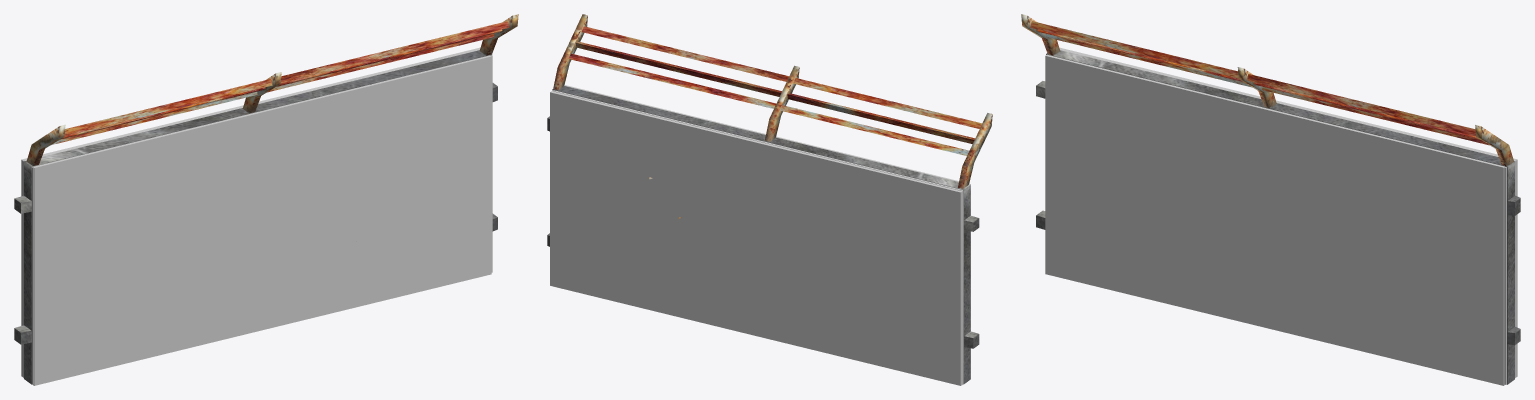
3 renders of one model, left to right at view 1: azimuth 30°, elevation 25°; view 2: azimuth 150°, elevation 25°; view 3: azimuth 330°, elevation 25°, orthographic. The views are drawn at different scales.
Visible parts, largest first — view 1: VB6x3RjaA-col, VB6x3RjaB-col, VA6x3Sup, VA6x3Bor, VA6x3-col; view 2: VA6x3-col, VA6x3Sup, VA6x3Bor, VB6x3RjaA-col; view 3: VB6x3RjaA-col, VB6x3RjaB-col, VA6x3Sup, VA6x3Bor, VA6x3-col.
Part boxes in pixels (left/top/right/bottom): VB6x3RjaA-col: left=24, top=49, right=491, bottom=385; VB6x3RjaB-col: left=34, top=86, right=359, bottom=384; VA6x3Sup: left=26, top=14, right=518, bottom=165; VA6x3Bor: left=14, top=50, right=497, bottom=384; VA6x3-col: left=21, top=47, right=492, bottom=384; VA6x3-col: left=550, top=90, right=970, bottom=385; VA6x3Sup: left=553, top=14, right=992, bottom=188; VA6x3Bor: left=547, top=86, right=979, bottom=384; VB6x3RjaA-col: left=553, top=85, right=970, bottom=384; VB6x3RjaA-col: left=1045, top=49, right=1513, bottom=385; VB6x3RjaB-col: left=1045, top=50, right=1371, bottom=353; VA6x3Sup: left=1021, top=14, right=1513, bottom=166; VA6x3Bor: left=1036, top=50, right=1520, bottom=384; VA6x3-col: left=1045, top=47, right=1517, bottom=384.
Size of the model in its own units: 5.97 by 3.32 by 0.8254.
Materials: 1 (1 with a texture image).
